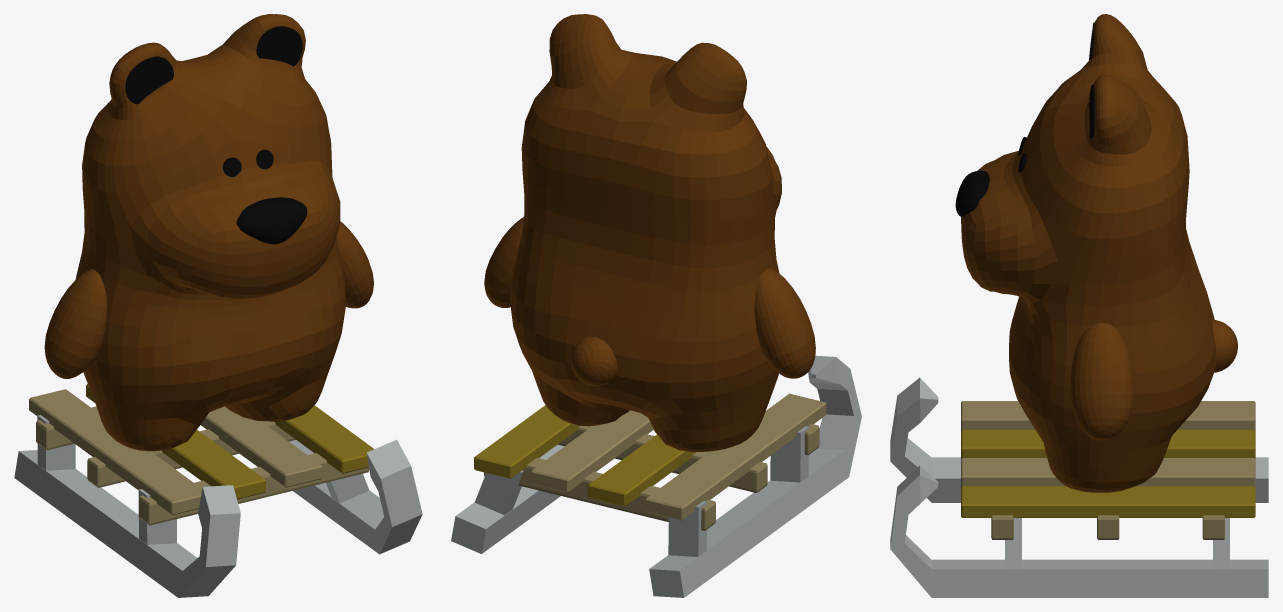
The model's file is sledbear.fbx.
3 renders of one model, left to right at view 1: azimuth 30°, elevation 25°; view 2: azimuth 150°, elevation 25°; view 3: azimuth 270°, elevation 25°, orthographic. The views are drawn at different scales.
Visible parts, largest first — view 1: Bear Body, sled; view 2: Bear Body, sled; view 3: Bear Body, sled.
Part boxes in pixels (<box>): Bear Body: <box>44,14,373,451</box>; sled: <box>14,383,422,597</box>; Bear Body: <box>484,14,815,451</box>; sled: <box>451,355,861,597</box>; Bear Body: <box>955,14,1237,492</box>; sled: <box>890,377,1268,597</box>.
Bounding box in the file's own units: 133 × 191 × 132.
